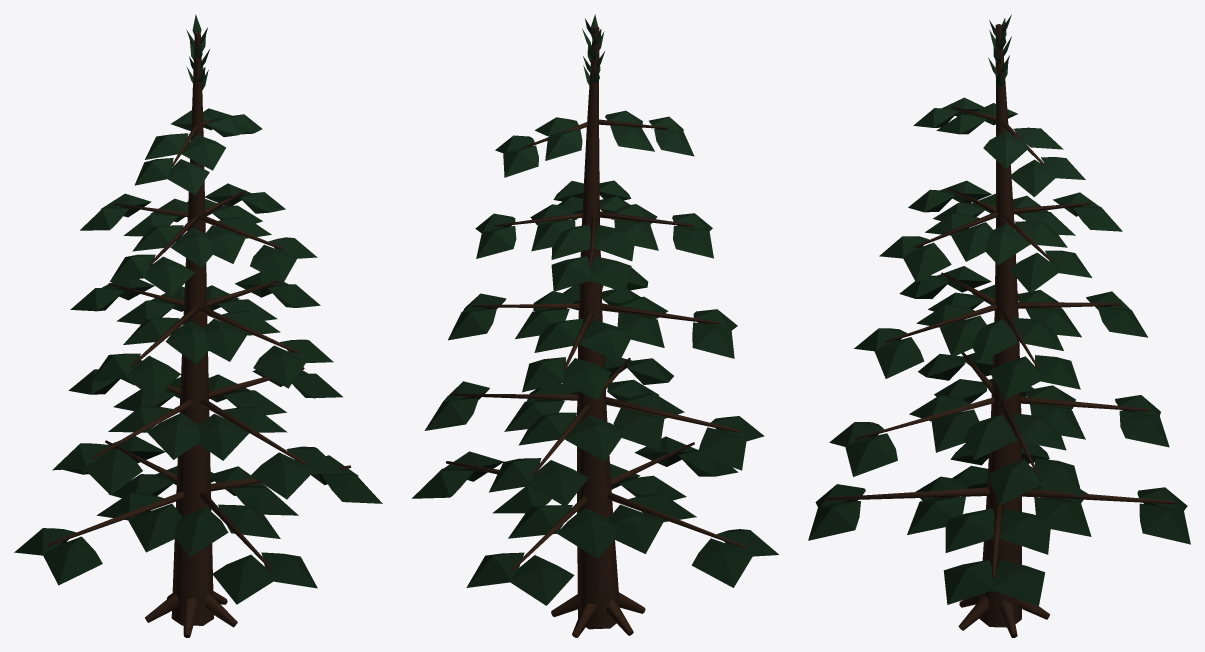
Rendered from spruceTreesDistant.obj.
3 views of the same model, side by side, from view 1: azimuth 30°, elevation 25°; view 2: azimuth 150°, elevation 25°; view 3: azimuth 270°, elevation 25° (orthographic).
Parts seen in each view (by area): view 1: spruceTreesDistant; view 2: spruceTreesDistant; view 3: spruceTreesDistant.
Boxes of the visible parts, x1,y1,x2,y2 form: spruceTreesDistant: (14,14,382,637); spruceTreesDistant: (412,14,778,637); spruceTreesDistant: (808,14,1190,637).
Bounding box in the file's own units: 5.29 × 9.37 × 5.33.
1 material, 1 textured.
